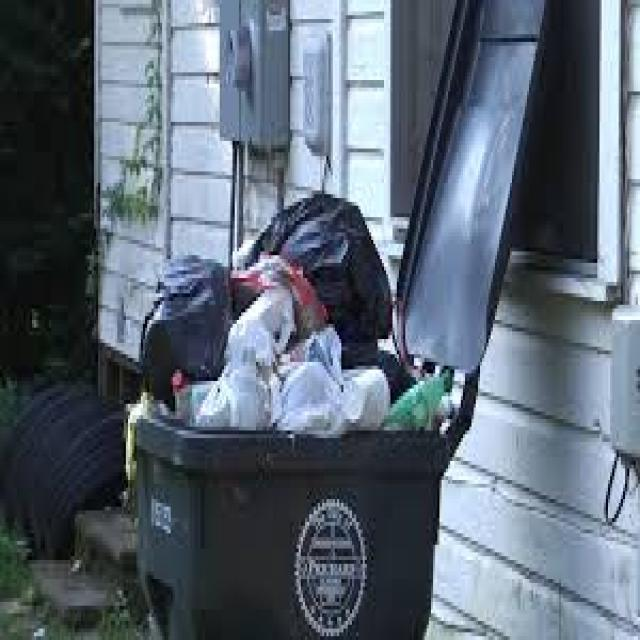Trashbag: (264, 195, 404, 336), (138, 247, 232, 385)
